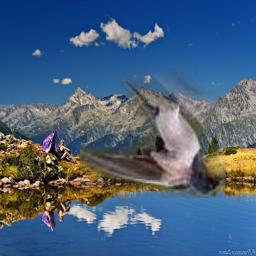Swallow: (80, 68, 226, 198)
